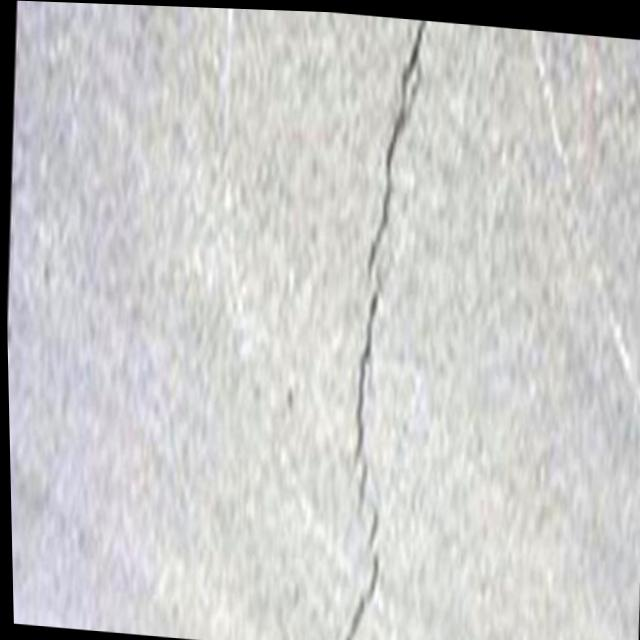Crack: (324, 12, 468, 640)
